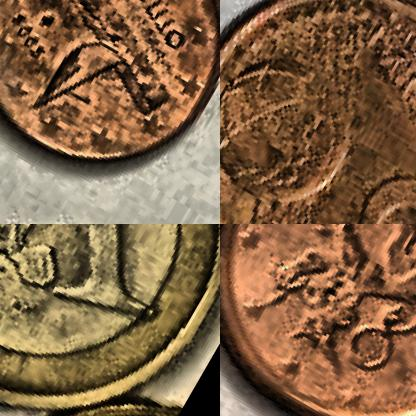coin: (0, 0, 219, 214), (220, 0, 415, 223), (0, 224, 219, 415), (220, 224, 415, 415)
